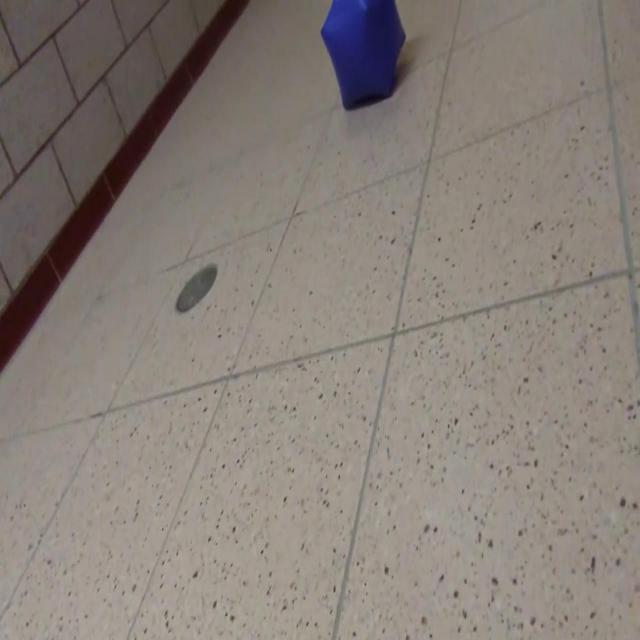frc_cube: (320, 0, 407, 110)
